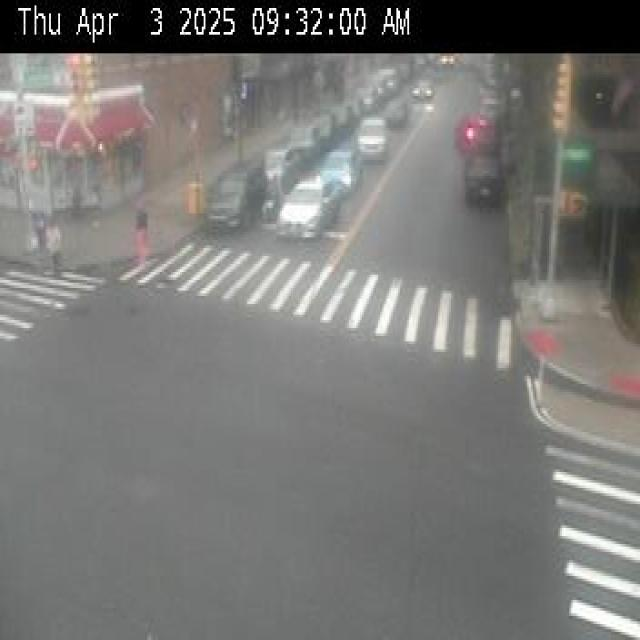parkedCars: (208, 138, 269, 224), (303, 76, 357, 148)
